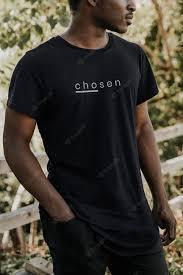Tshirt: (3, 32, 181, 232)
